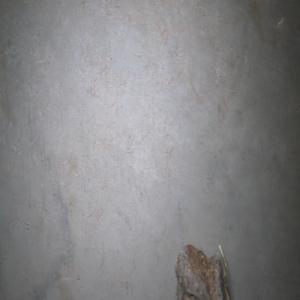Rock: (174, 244, 229, 300)
